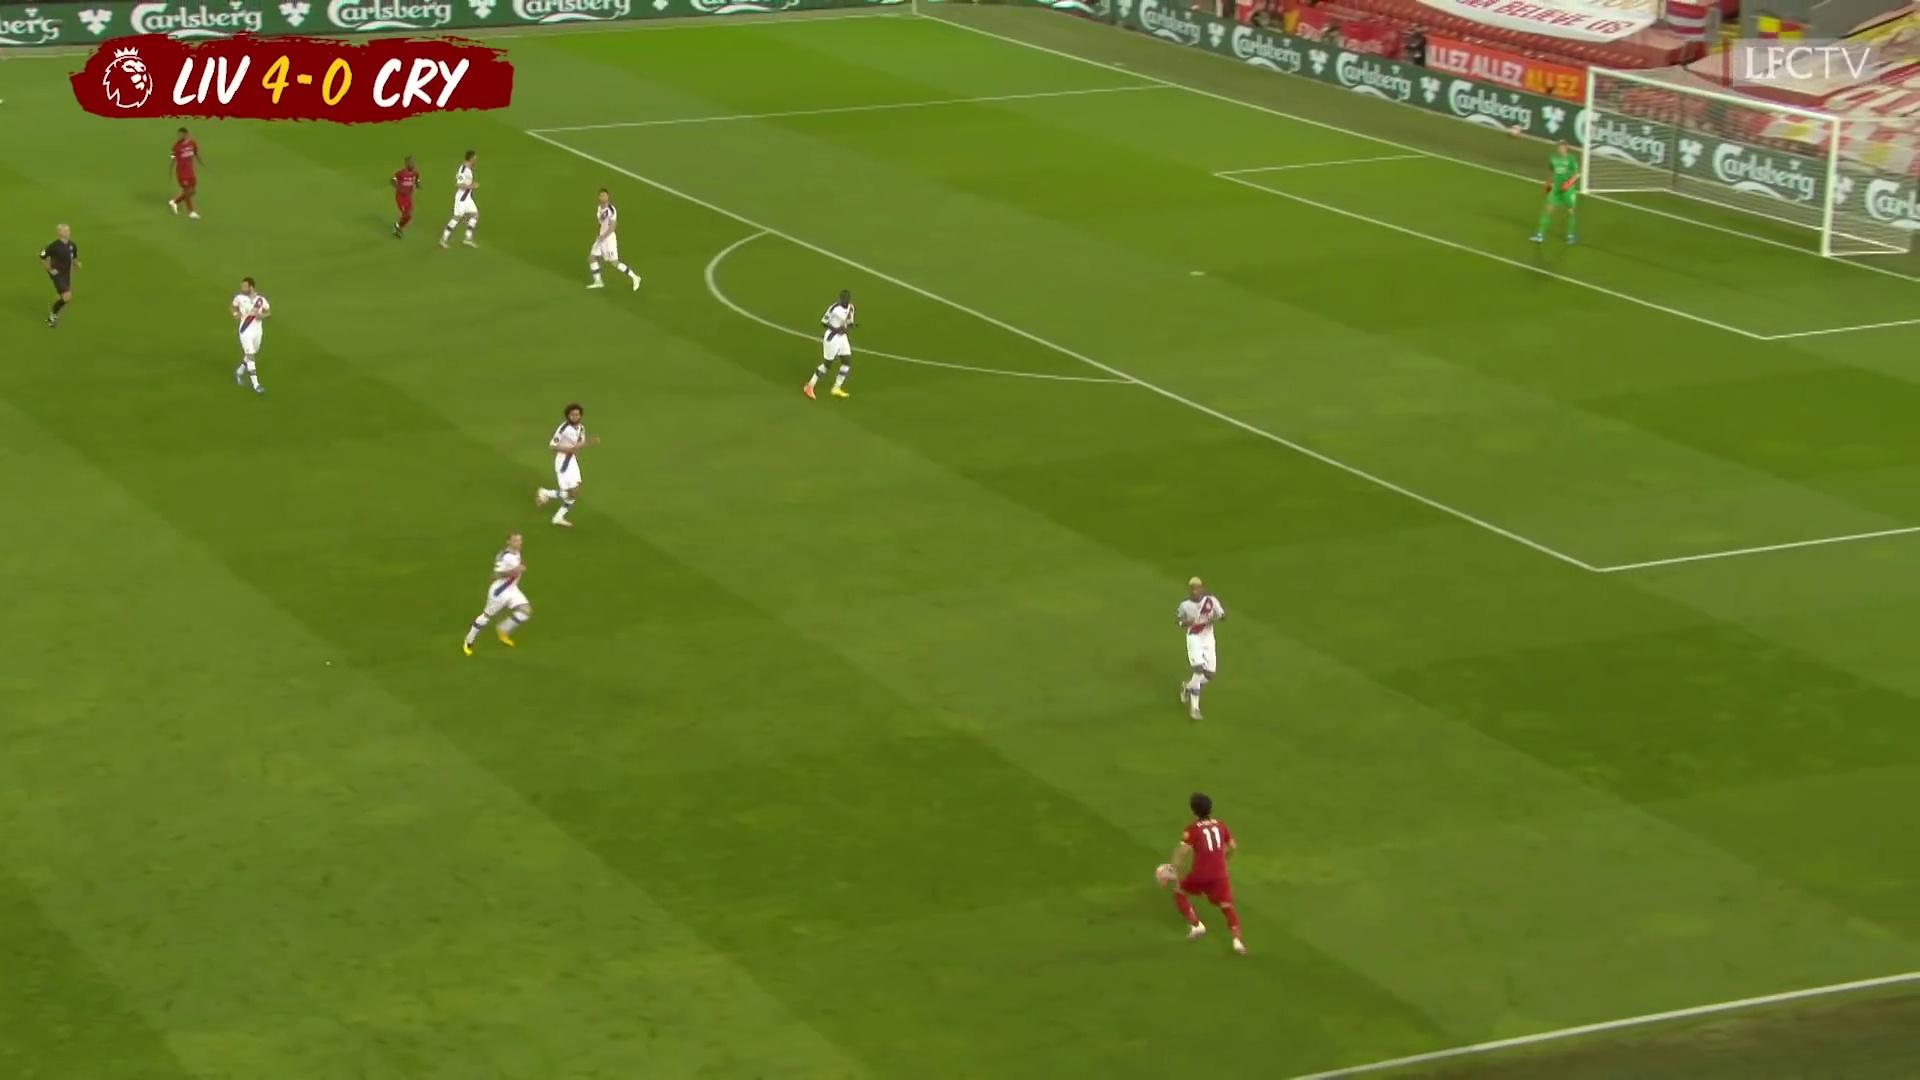ball: (1154, 861, 1180, 889)
goalkeeper: (1525, 137, 1589, 248)
player: (1156, 787, 1257, 957), (462, 532, 541, 663), (1173, 574, 1235, 724), (536, 400, 603, 531), (582, 187, 646, 298), (800, 287, 859, 404), (226, 274, 273, 403), (441, 151, 490, 256), (161, 122, 207, 225), (386, 152, 427, 244)
referee: (37, 222, 86, 334)
